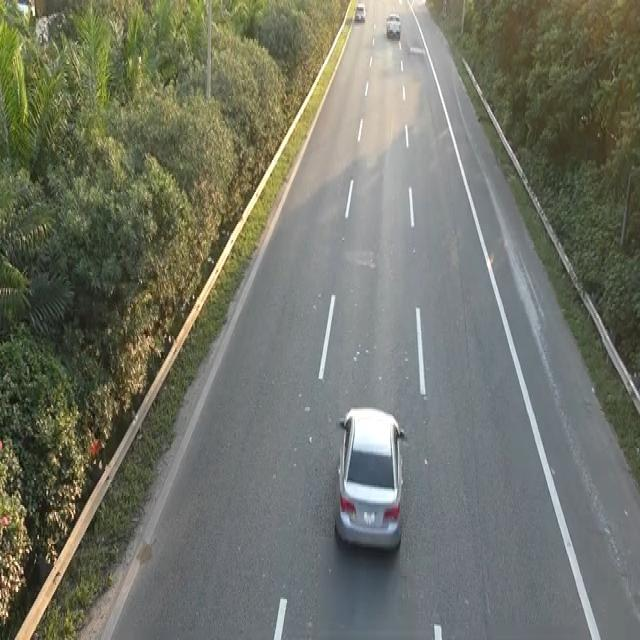bus: (332, 400, 407, 553), (353, 2, 366, 21)
car: (384, 11, 402, 39)
